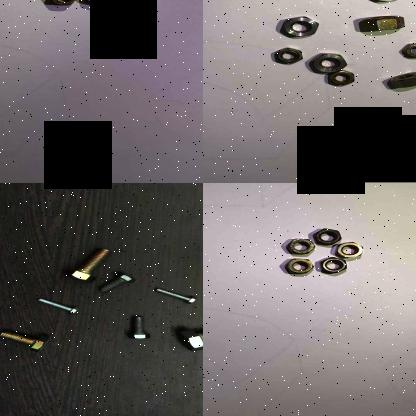Bolts: (63, 246, 110, 283), (0, 328, 53, 352), (149, 284, 203, 307), (34, 294, 83, 315), (171, 324, 203, 355), (93, 271, 137, 293), (124, 313, 154, 341)
NUTS: (275, 12, 323, 40), (356, 13, 410, 34), (304, 51, 347, 77), (272, 42, 306, 67), (283, 233, 317, 256), (379, 68, 416, 88), (282, 255, 318, 275), (324, 68, 356, 90), (317, 254, 349, 274), (332, 240, 366, 258), (312, 226, 346, 244), (400, 40, 416, 62), (81, 0, 112, 6), (48, 0, 77, 5)
